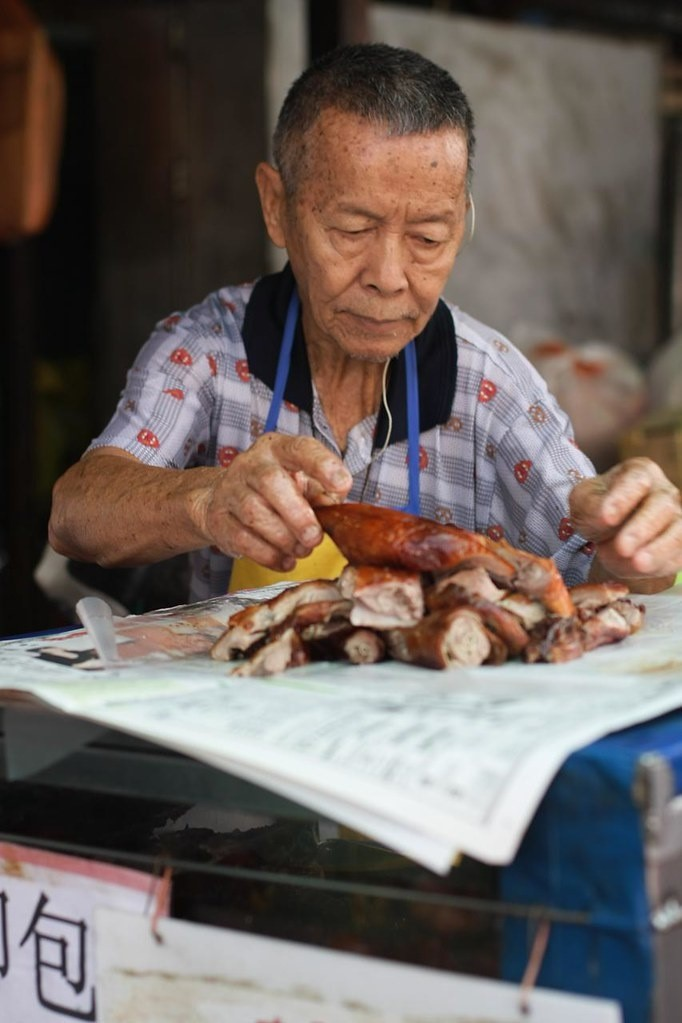face_no_mask: (255, 42, 480, 355)
